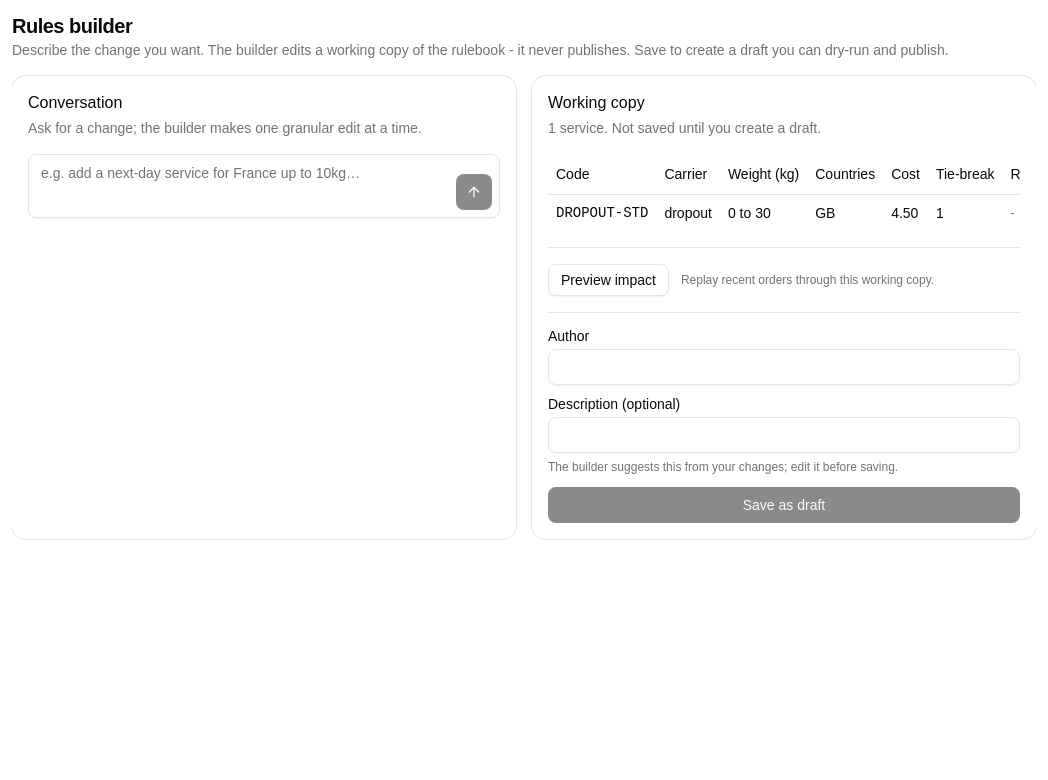
Test case: BuilderPage › pre-fills the description with an AI-suggested rationale after a change
Type "add france" into the text box named "message the rules builder". click: (264, 186)
box: [28,154,500,218]
Then press Enter
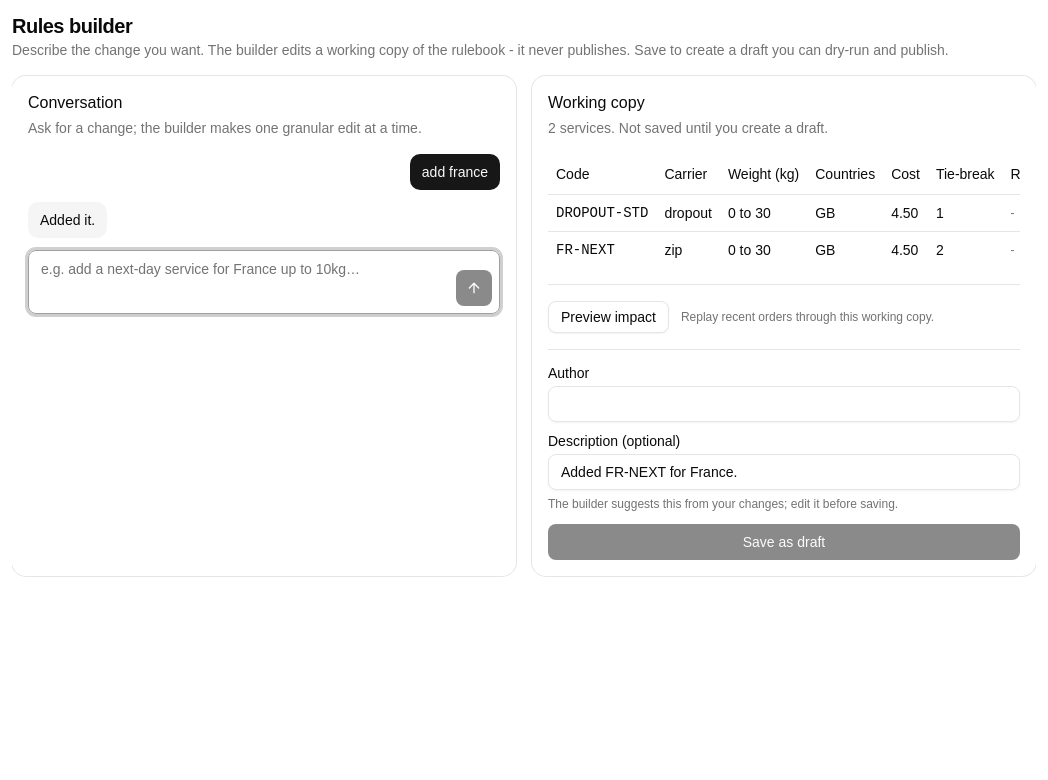
Check: the text "Added it." is shown, box [28,202,107,238]
Check: the field labelled "Description (optional)" holds "Added FR-NEXT for France.", box [548,454,1020,490]
